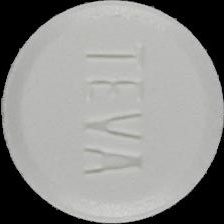68151-1438: (0, 0, 224, 224)
